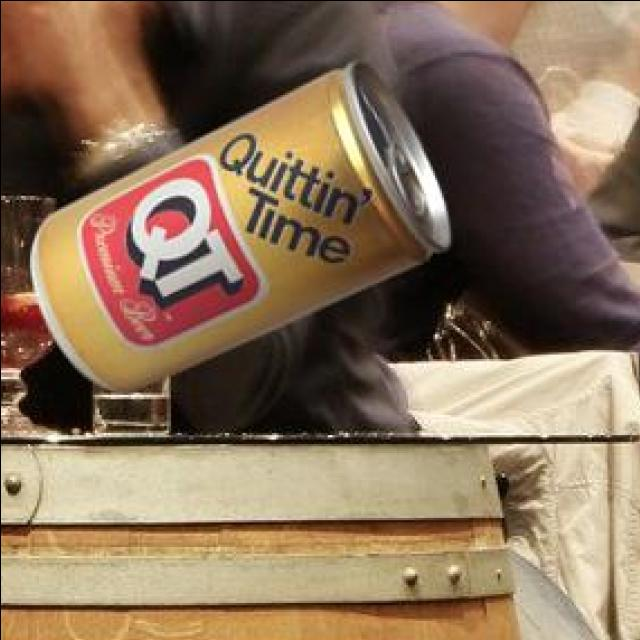logam: (26, 57, 446, 388)
